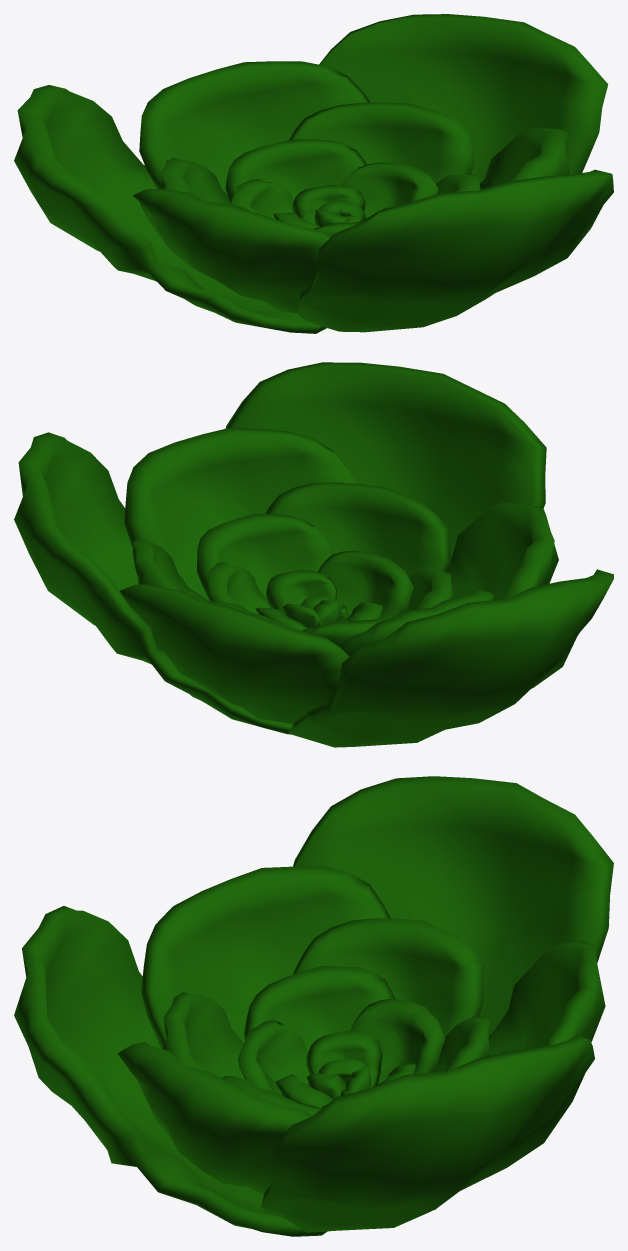
Rendered from LETTUCE.fbx.
3 views of the same model, one above another, from view 1: azimuth 30°, elevation 25°; view 2: azimuth 150°, elevation 25°; view 3: azimuth 270°, elevation 25° (orthographic). The views are drawn at different scales.
Parts seen in each view (by area): view 1: Plane.018; view 2: Plane.018; view 3: Plane.018.
Part boxes in pixels (x1,y1,x2,y2): Plane.018: (14, 14, 613, 333); Plane.018: (14, 362, 613, 747); Plane.018: (14, 776, 613, 1236).
Bounding box in the file's own units: 52.8 × 20.62 × 41.81.
